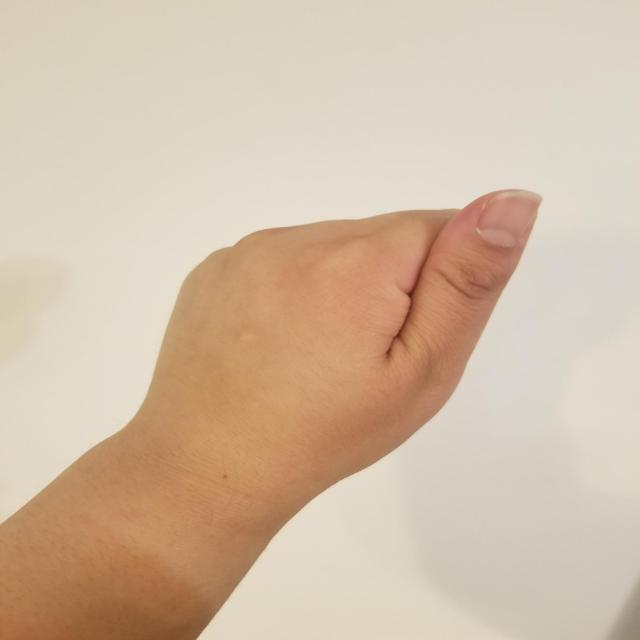A: (106, 186, 552, 522)
